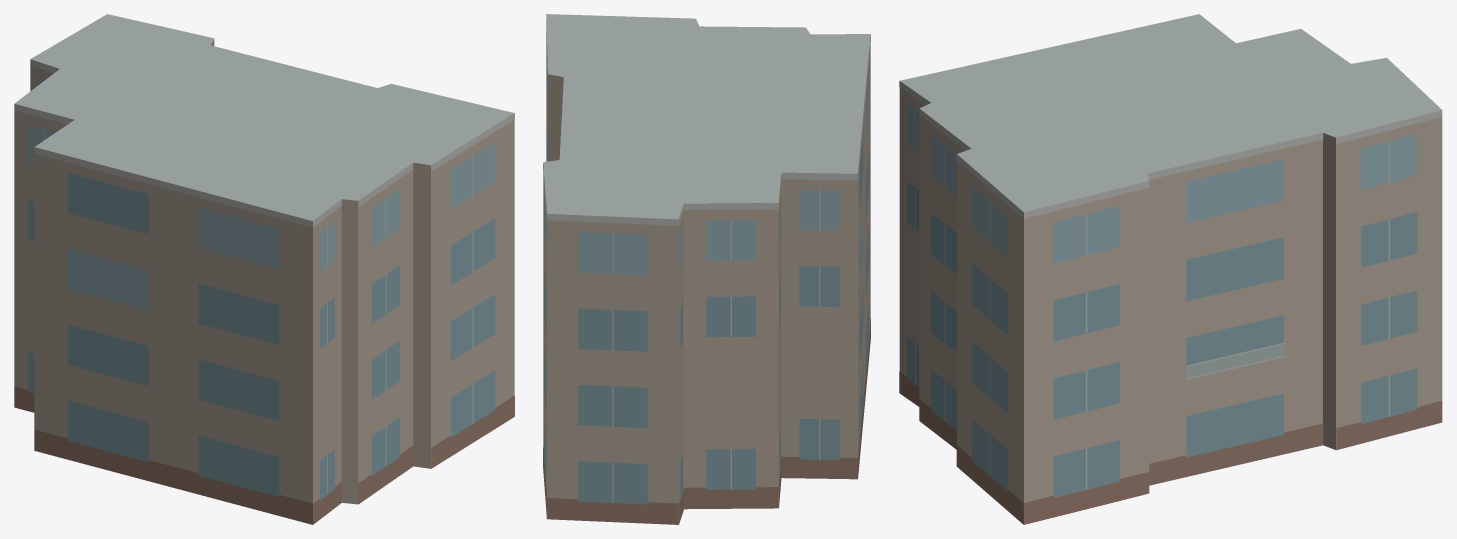
File: survey-upis-32629451.glb
3 views of the same model, side by side, from view 1: azimuth 30°, elevation 25°; view 2: azimuth 150°, elevation 25°; view 3: azimuth 270°, elevation 25° (orthographic). The views are drawn at different scales.
Parts seen in each view (by area): view 1: survey-upis-32629451.tmp; view 2: survey-upis-32629451.tmp; view 3: survey-upis-32629451.tmp.
Part boxes in pixels (bbox=[...]): survey-upis-32629451.tmp: bbox=[14, 14, 514, 524]; survey-upis-32629451.tmp: bbox=[543, 14, 870, 524]; survey-upis-32629451.tmp: bbox=[899, 14, 1442, 524].
Bounding box in the file's own units: 15.53 × 11.4 × 17.95.
